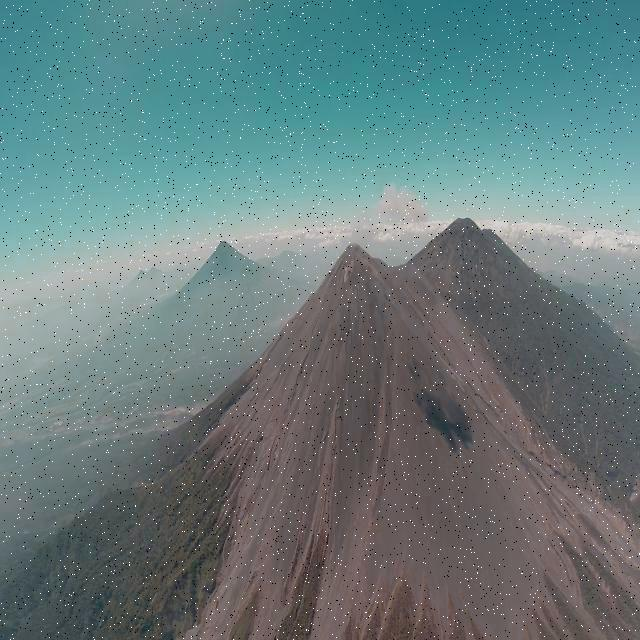Plume: (372, 180, 430, 230)
Summit: (319, 240, 389, 288)
